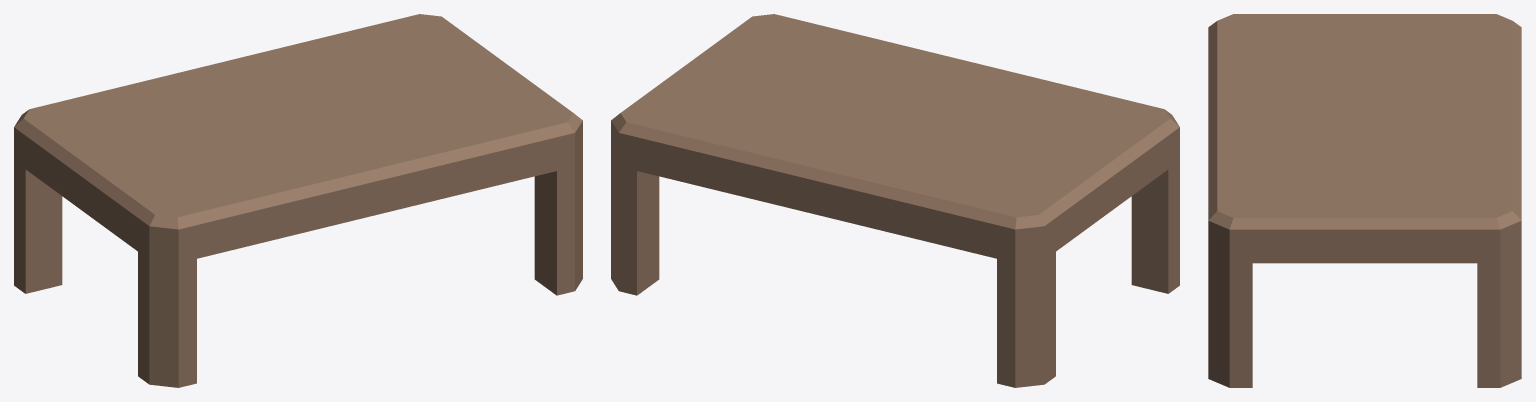
Rendered from SecurityRoomTable.fbx.
3 views of the same model, side by side, from view 1: azimuth 30°, elevation 25°; view 2: azimuth 150°, elevation 25°; view 3: azimuth 270°, elevation 25° (orthographic).
Parts seen in each view (by area): view 1: SecurityRoomTable; view 2: SecurityRoomTable; view 3: SecurityRoomTable.
Part boxes in pixels (<box>): SecurityRoomTable: <box>14,14,582,387</box>; SecurityRoomTable: <box>611,14,1179,387</box>; SecurityRoomTable: <box>1208,14,1521,387</box>.
Size of the model in its own units: 489 by 179 by 306.
